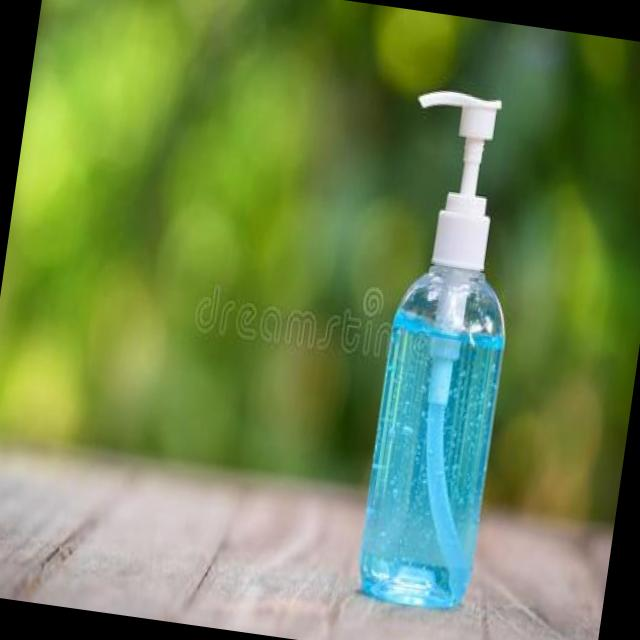sanitizer: (340, 79, 546, 616)
